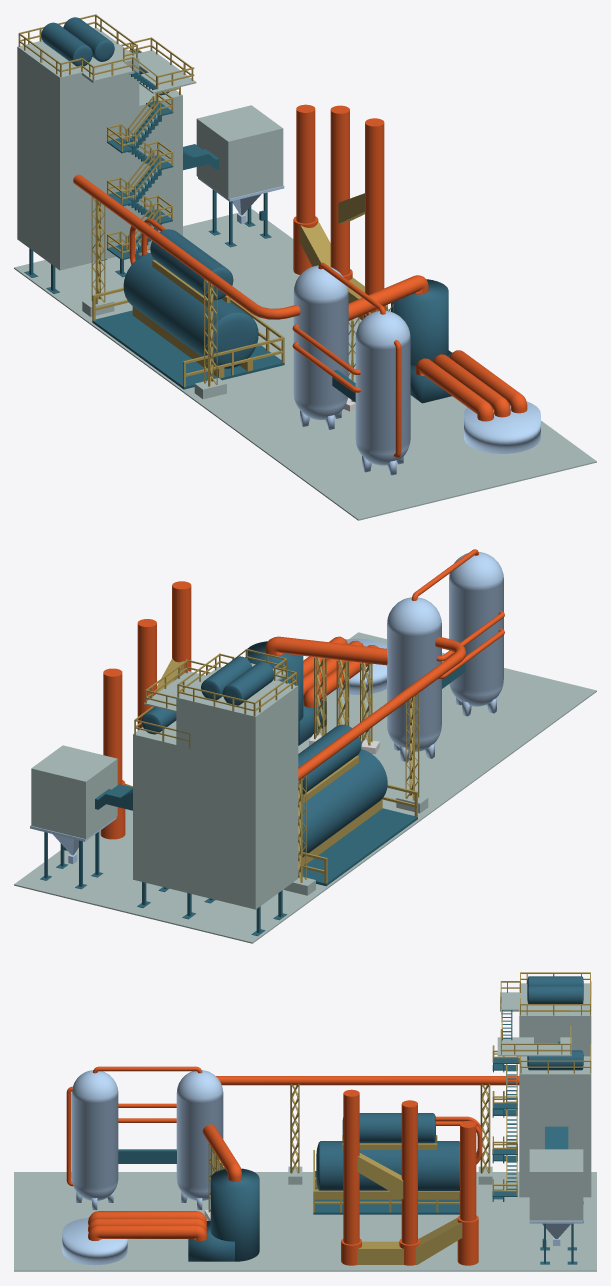
File: inspection_world.dae
The picture shows the model from 3 angles, top to bottom: view 1: azimuth 30°, elevation 25°; view 2: azimuth 150°, elevation 25°; view 3: azimuth 270°, elevation 25°; orthographic projection. The views are drawn at different scales.
Parts seen in each view (by area): view 1: Plane.006, Cube.007, Sphere.001, Sphere.002, Mesh.011, Cube.005, Cylinder.001, Cube.011, Cylinder.003, Cylinder.005, Plane.009, Cylinder.002 (+20 smaller); view 2: Cube.007, Plane.006, Sphere.002, Sphere.001, Cube.005, Mesh.011, Cube.011, Plane.009, Cylinder.002, Cube.128, Plane.002, Cylinder.001 (+20 smaller); view 3: Plane.006, Cube.007, Sphere.001, Sphere.002, Cylinder.001, Mesh.011, Cube.005, Plane.009, Cylinder.003, Cylinder.005, Cylinder.002, Cylinder (+27 smaller).
Boxes of the visible parts, bbox=[...] form: Plane.006: bbox=[14, 209, 596, 520]; Cube.007: bbox=[17, 27, 182, 270]; Sphere.001: bbox=[355, 310, 410, 475]; Sphere.002: bbox=[293, 265, 348, 429]; Mesh.011: bbox=[123, 253, 258, 369]; Cube.005: bbox=[196, 105, 283, 198]; Cylinder.001: bbox=[391, 279, 451, 403]; Cube.011: bbox=[92, 310, 284, 389]; Cylinder.003: bbox=[362, 118, 385, 319]; Cylinder.005: bbox=[330, 105, 352, 280]; Plane.009: bbox=[73, 174, 300, 319]; Cylinder.002: bbox=[293, 104, 318, 274]; Cube.007: bbox=[133, 666, 298, 909]; Plane.006: bbox=[14, 632, 596, 943]; Sphere.002: bbox=[387, 597, 441, 761]; Sphere.001: bbox=[449, 552, 503, 716]; Cube.005: bbox=[31, 745, 117, 839]; Mesh.011: bbox=[299, 749, 387, 857]; Cube.011: bbox=[302, 808, 417, 886]; Plane.009: bbox=[298, 636, 466, 780]; Cylinder.002: bbox=[100, 668, 125, 839]; Cube.128: bbox=[145, 649, 296, 716]; Plane.002: bbox=[265, 636, 387, 665]; Cylinder.001: bbox=[247, 641, 326, 745]; Plane.006: bbox=[14, 1172, 596, 1271]; Cube.007: bbox=[519, 983, 591, 1197]; Sphere.001: bbox=[71, 1070, 118, 1209]; Sphere.002: bbox=[176, 1070, 223, 1209]; Cylinder.001: bbox=[188, 1168, 259, 1261]; Mesh.011: bbox=[316, 1141, 459, 1190]; Cube.005: bbox=[529, 1149, 583, 1220]; Plane.009: bbox=[216, 1076, 519, 1085]; Cylinder.003: bbox=[341, 1089, 361, 1265]; Cylinder.005: bbox=[399, 1100, 420, 1265]; Cylinder.002: bbox=[457, 1121, 478, 1265]; Cylinder: bbox=[62, 1218, 127, 1265].
Size of the model in its own units: 20 by 50 by 19.7.
